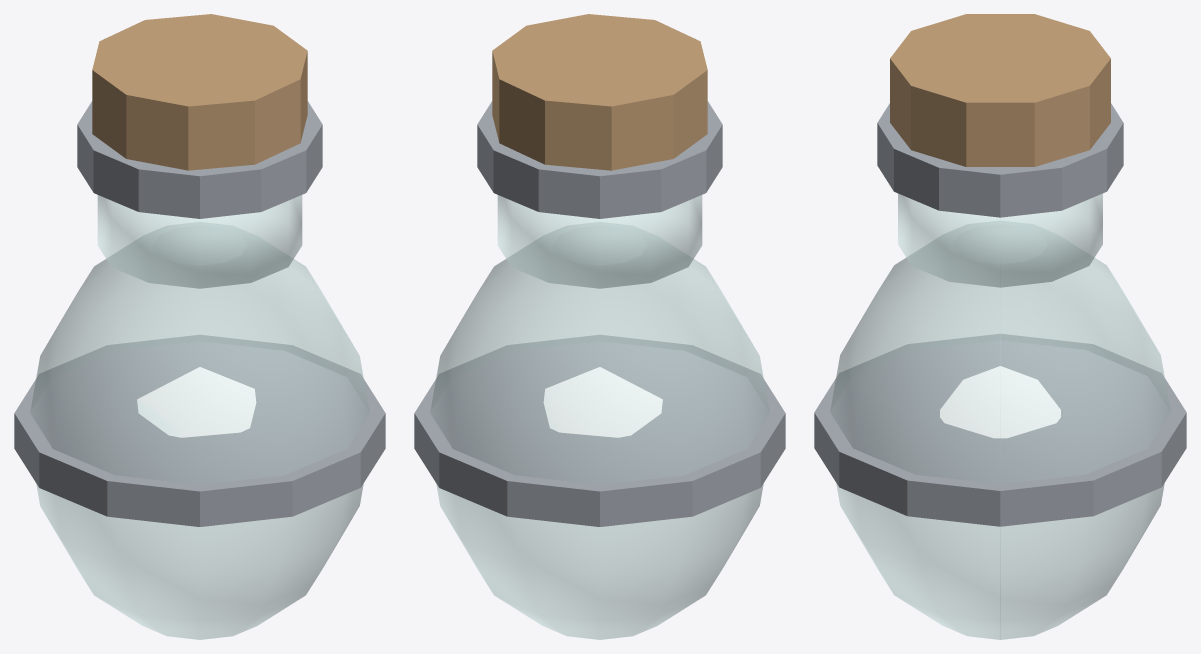
The model's file is CaptureJar.fbx.
The picture shows the model from 3 angles, left to right: view 1: azimuth 30°, elevation 25°; view 2: azimuth 150°, elevation 25°; view 3: azimuth 270°, elevation 25°; orthographic projection.
Visible parts, largest first — view 1: CaptureJarModel; view 2: CaptureJarModel; view 3: CaptureJarModel.
Part boxes in pixels (<box>): CaptureJarModel: <box>14,14,385,639</box>; CaptureJarModel: <box>414,14,785,639</box>; CaptureJarModel: <box>814,14,1186,639</box>.
Size of the model in its own units: 0.236 by 0.3975 by 0.236.
